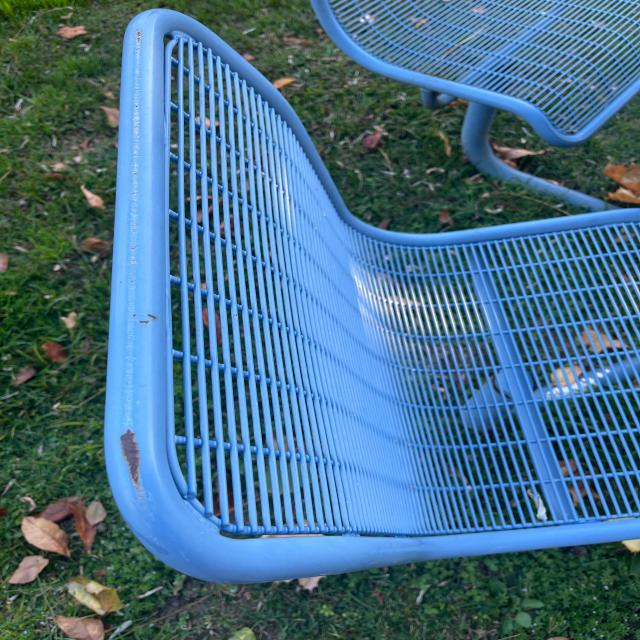Filiform Corrosion: (115, 422, 150, 493), (139, 307, 167, 335)
